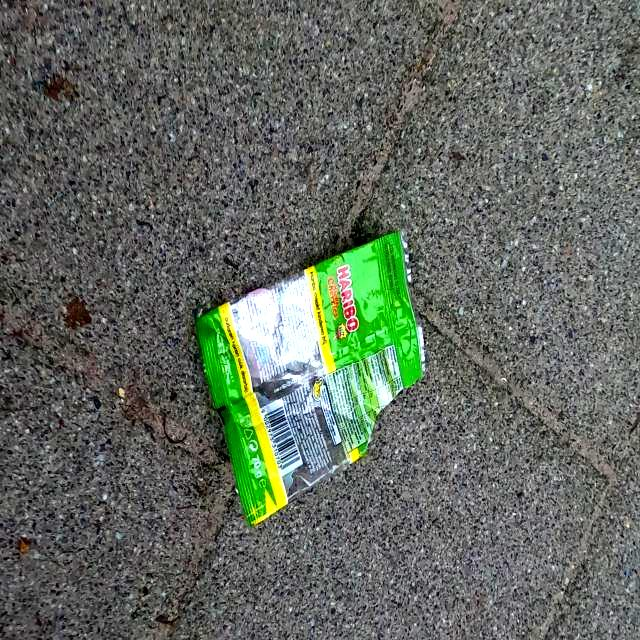Plastic: (193, 227, 429, 533)
